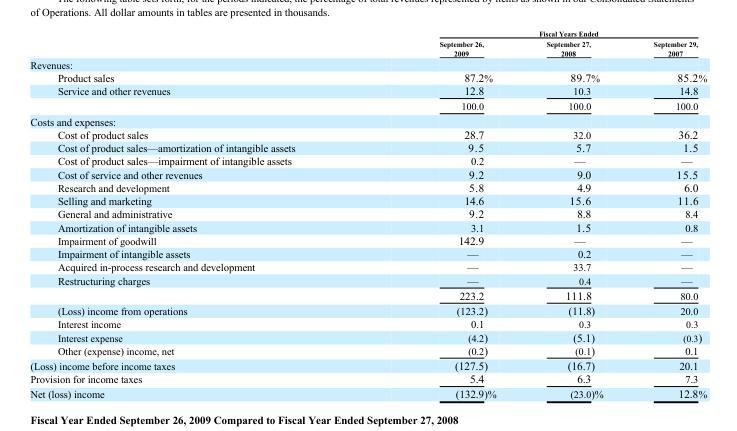table: (29, 29, 706, 399)
table column: (29, 29, 366, 399), (366, 29, 520, 399), (520, 29, 627, 399), (627, 29, 706, 399)
table column header: (29, 29, 706, 57)
table projected row header: (29, 113, 706, 127), (29, 57, 706, 70)
table row: (29, 38, 706, 57), (29, 83, 706, 98), (29, 98, 706, 113), (29, 287, 706, 302), (29, 302, 706, 317), (29, 371, 706, 386), (29, 113, 706, 127), (29, 153, 706, 167), (29, 206, 706, 220), (29, 246, 706, 260), (29, 273, 706, 287), (29, 343, 706, 357), (29, 357, 706, 371), (29, 57, 706, 70), (29, 70, 706, 83), (29, 127, 706, 140), (29, 140, 706, 153), (29, 167, 706, 180), (29, 180, 706, 193), (29, 193, 706, 206), (29, 220, 706, 233), (29, 233, 706, 246), (29, 260, 706, 273), (29, 317, 706, 330), (29, 330, 706, 343), (29, 386, 706, 399), (29, 29, 706, 38)
table spanning cell: (366, 29, 706, 38)
